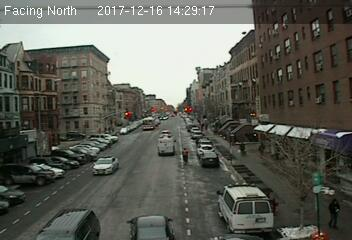bicycle: (181, 145, 189, 164)
car: (126, 215, 177, 239), (201, 150, 217, 166)
police: (217, 180, 275, 233), (92, 154, 120, 177)
truck: (158, 138, 175, 154)
